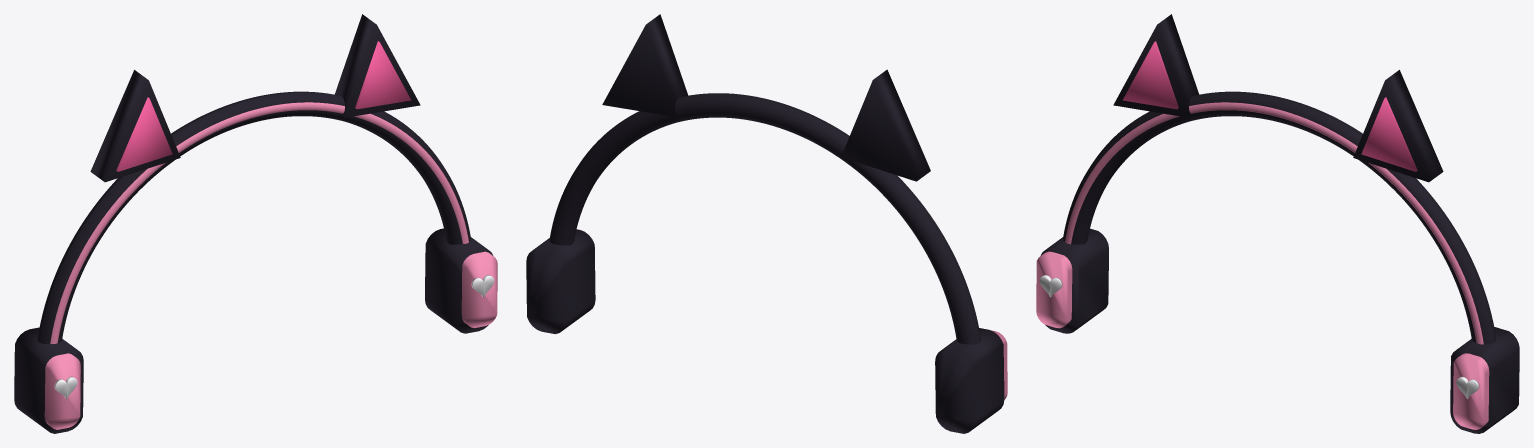
The model's file is pixel_headpiece.glb.
3 views of the same model, side by side, from view 1: azimuth 30°, elevation 25°; view 2: azimuth 150°, elevation 25°; view 3: azimuth 330°, elevation 25° (orthographic).
Visible parts, largest first — view 1: pixel_headpiece; view 2: pixel_headpiece; view 3: pixel_headpiece.
Boxes of the visible parts, bbox=[...] form: pixel_headpiece: bbox=[14, 14, 497, 433]; pixel_headpiece: bbox=[526, 14, 1007, 433]; pixel_headpiece: bbox=[1036, 14, 1519, 433].
Size of the model in its own units: 1.02 by 0.701 by 0.1405.
